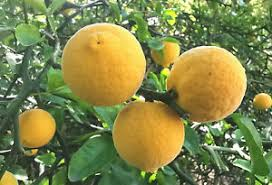orange: (167, 39, 250, 123), (60, 23, 144, 102), (111, 98, 185, 171)
